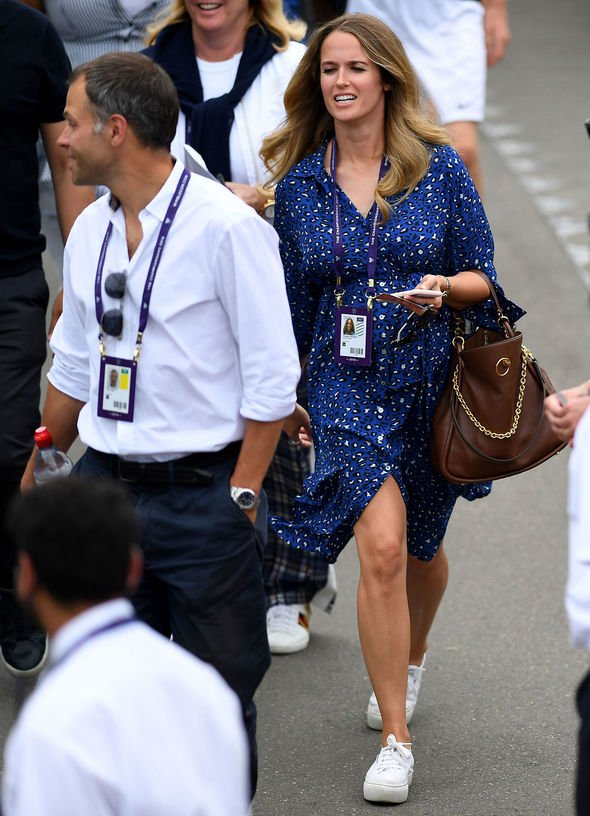Person: (283, 11, 493, 805), (31, 50, 299, 477)
